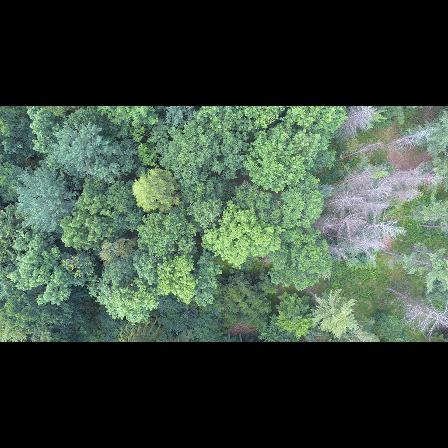Dead: (388, 287, 448, 340), (374, 123, 434, 154), (366, 167, 446, 190), (332, 106, 382, 140), (363, 185, 422, 209), (333, 139, 384, 163), (316, 210, 359, 236), (326, 167, 374, 189), (360, 218, 408, 240), (321, 189, 366, 209), (356, 200, 401, 216), (336, 237, 380, 248), (323, 242, 346, 263)
